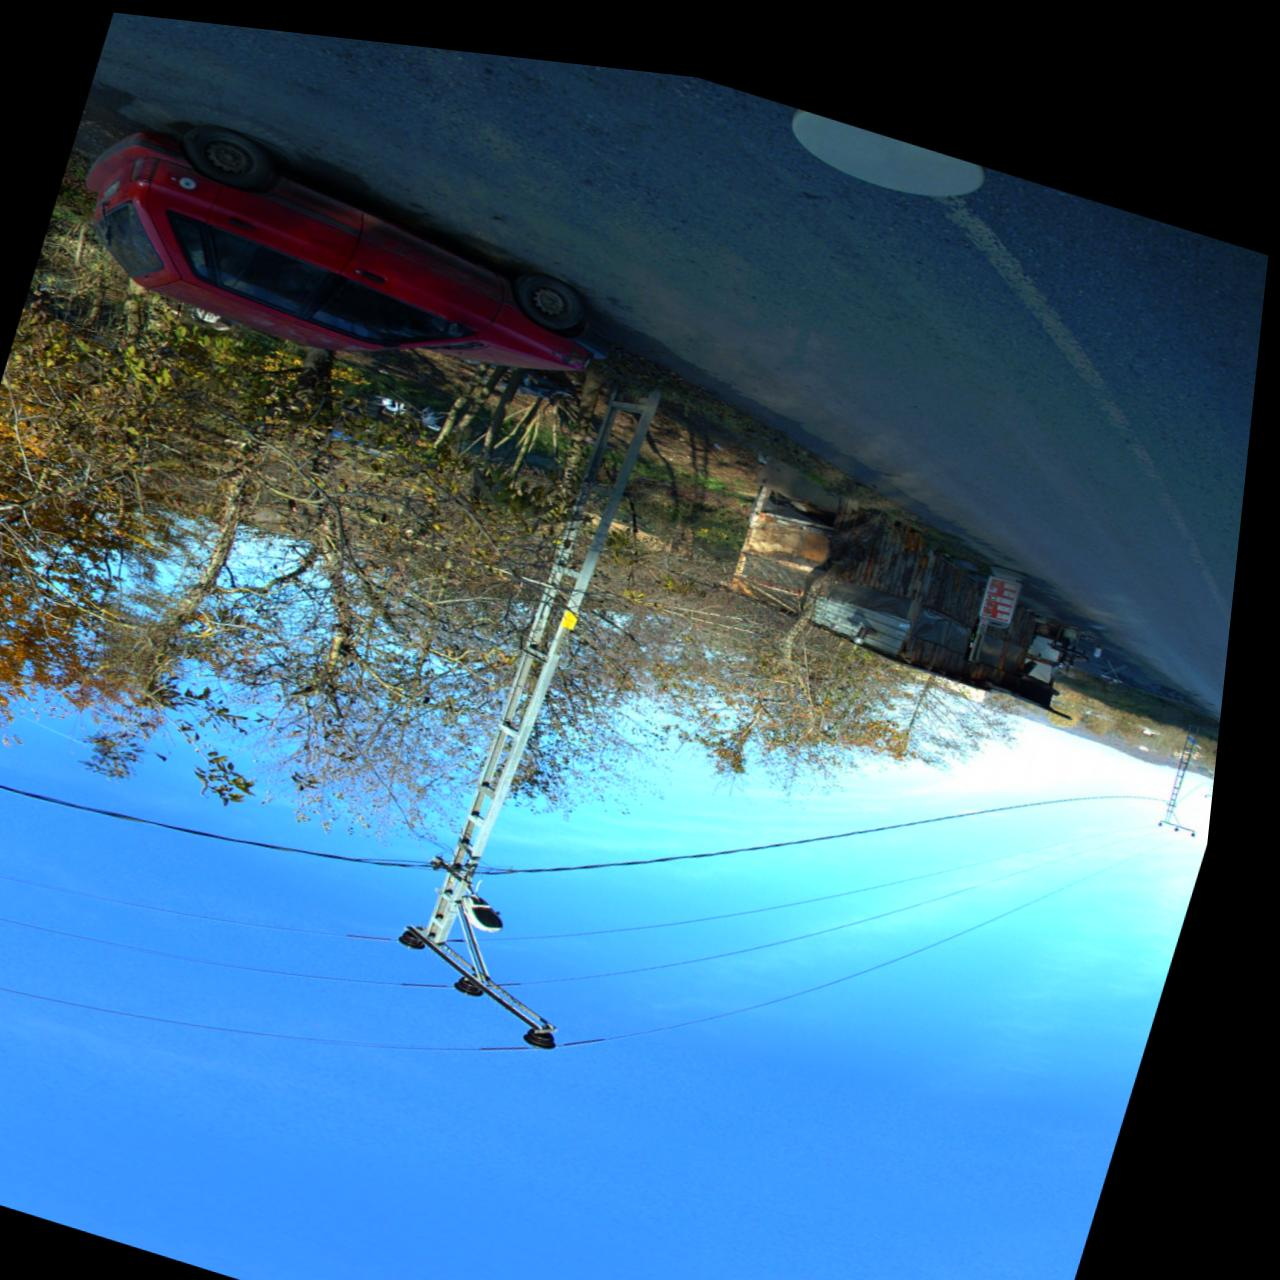Utility Pole Information Plate: (570, 593, 593, 617)
